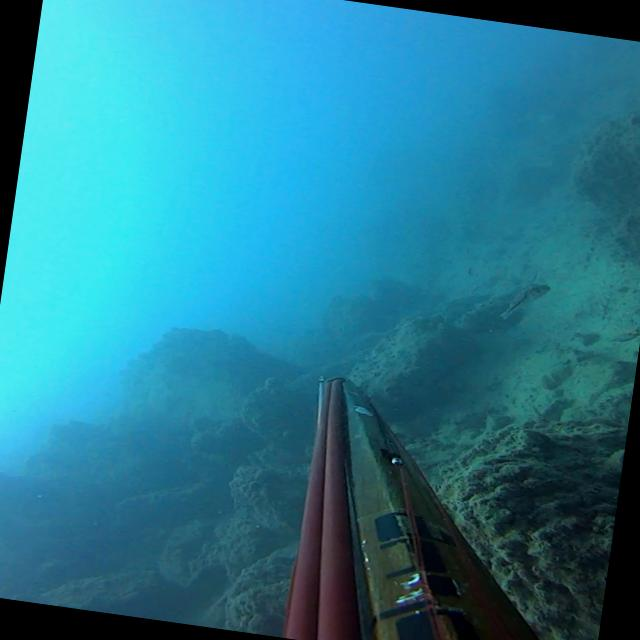Balon Baligi: (498, 278, 550, 324)
